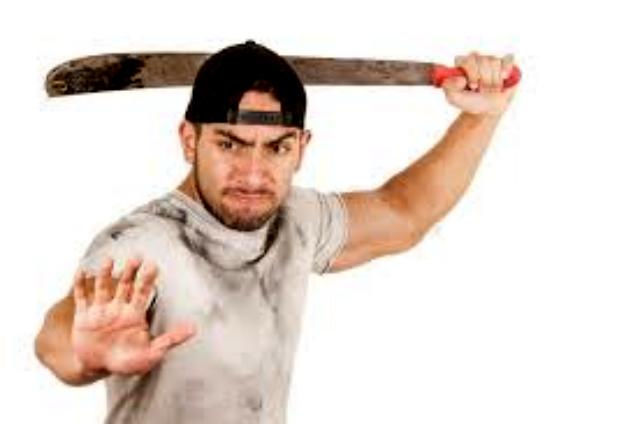long knife: (27, 43, 536, 101)
